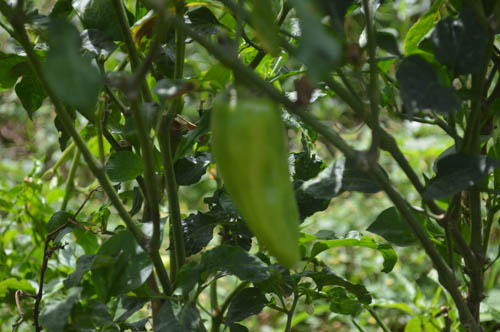ChiliPepper: (210, 96, 304, 269)
